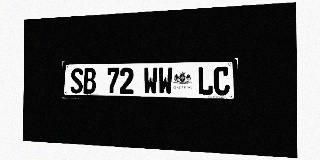2: (120, 67, 133, 94)
7: (106, 68, 119, 94)
B: (83, 68, 96, 94)
C: (213, 66, 230, 95)
L: (197, 66, 213, 95)
S: (70, 68, 83, 93)
W: (158, 67, 173, 95), (143, 67, 157, 94)
